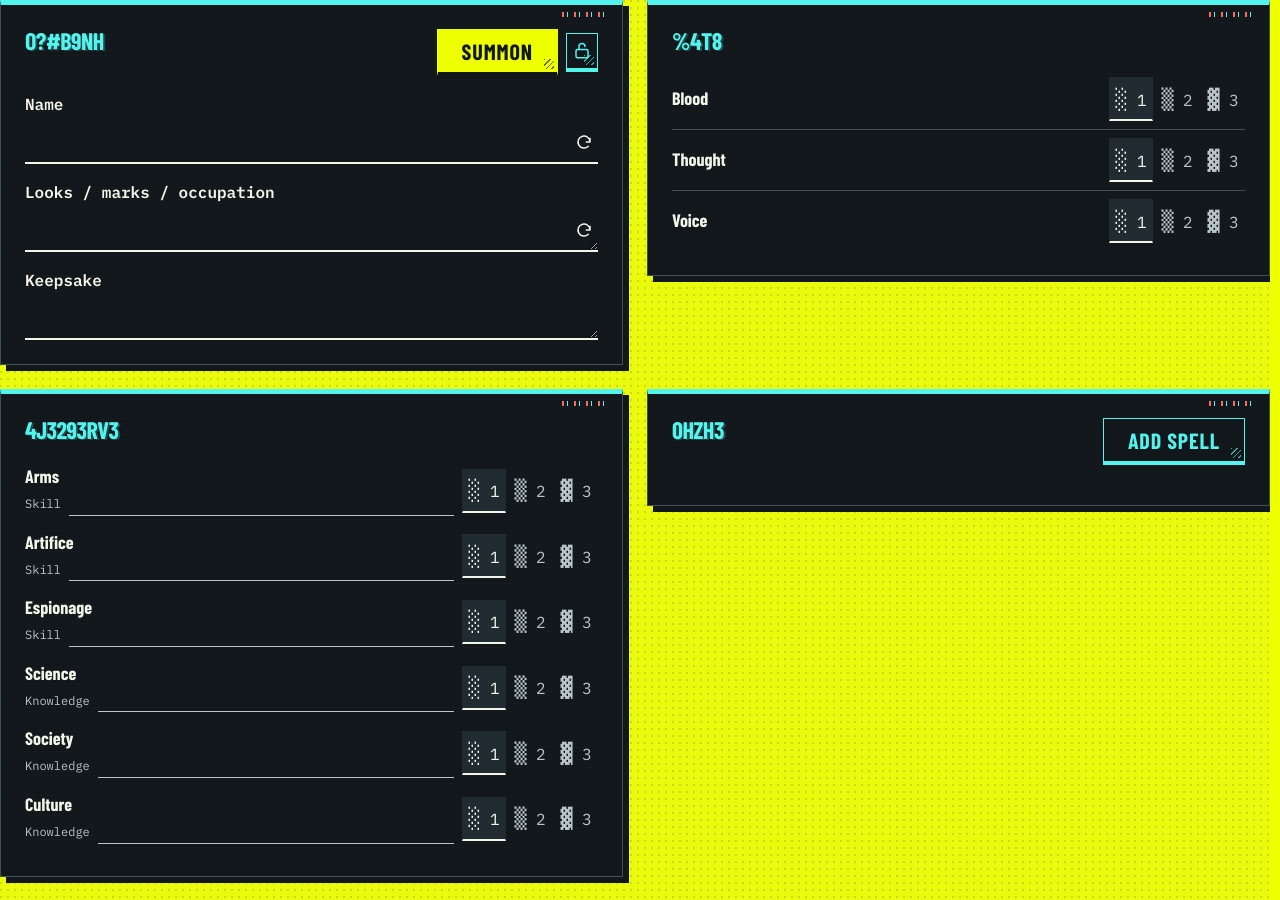
Scenario: Never Midnight student sheet › cancels summoning without changing edits and preserves the file when generation fails
The image size is (1280, 900).
Step 1. Click the button with id "student-summon" → (497, 52), box [437, 29, 558, 76]
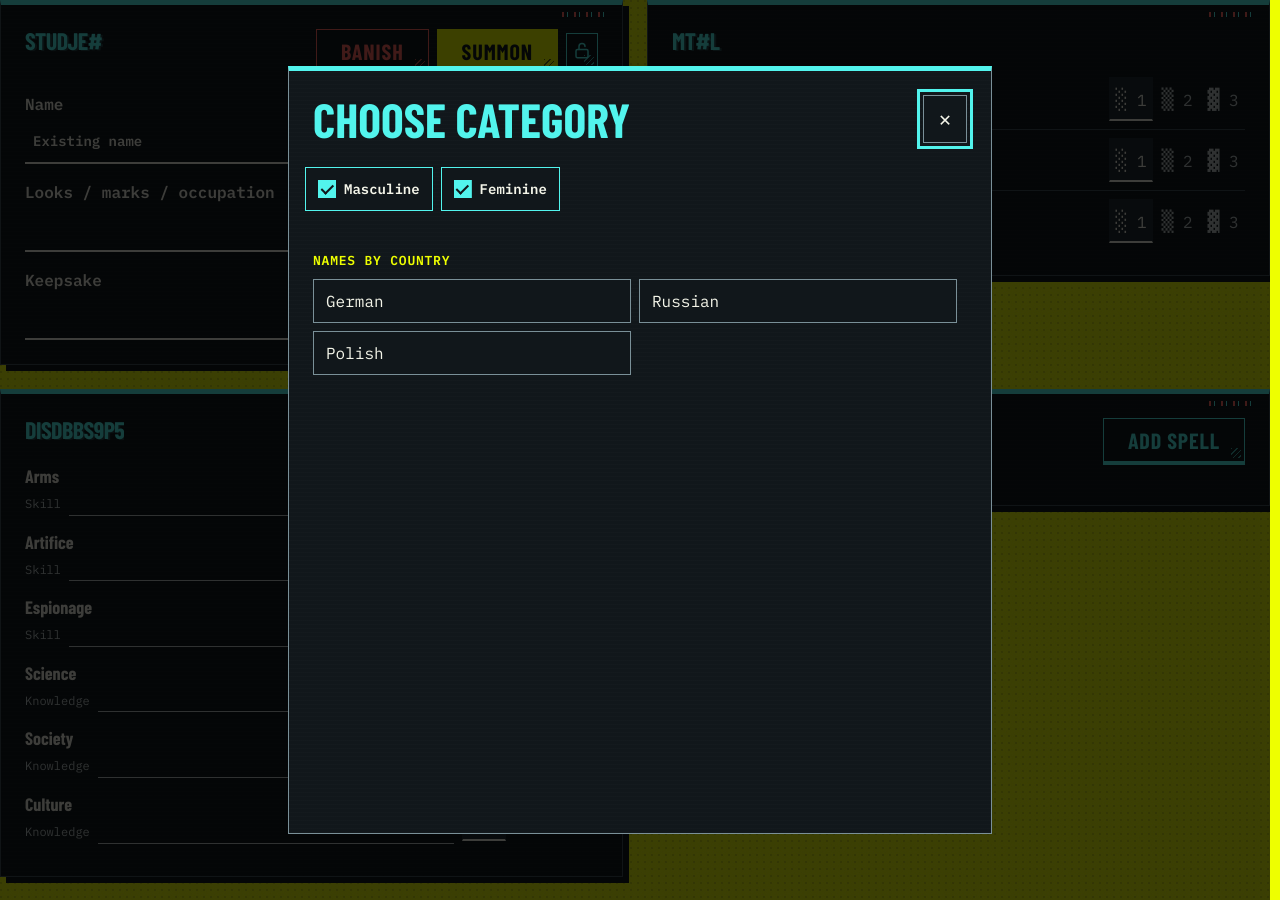
Step 2. Click the button named "Close category picker" → (945, 119), box [923, 95, 967, 143]
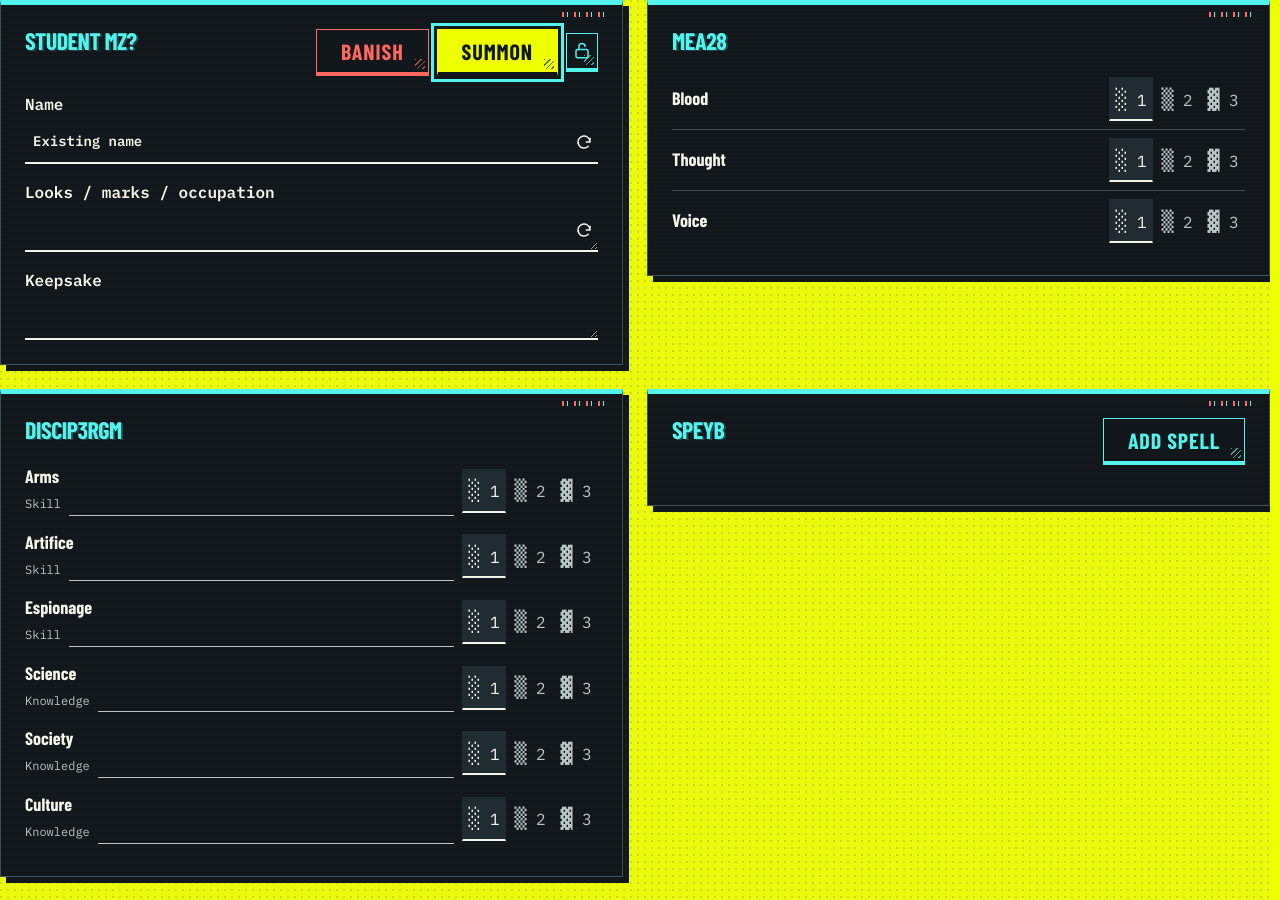
Step 3. Click the button named "Reroll name" → (584, 142), box [570, 120, 598, 164]
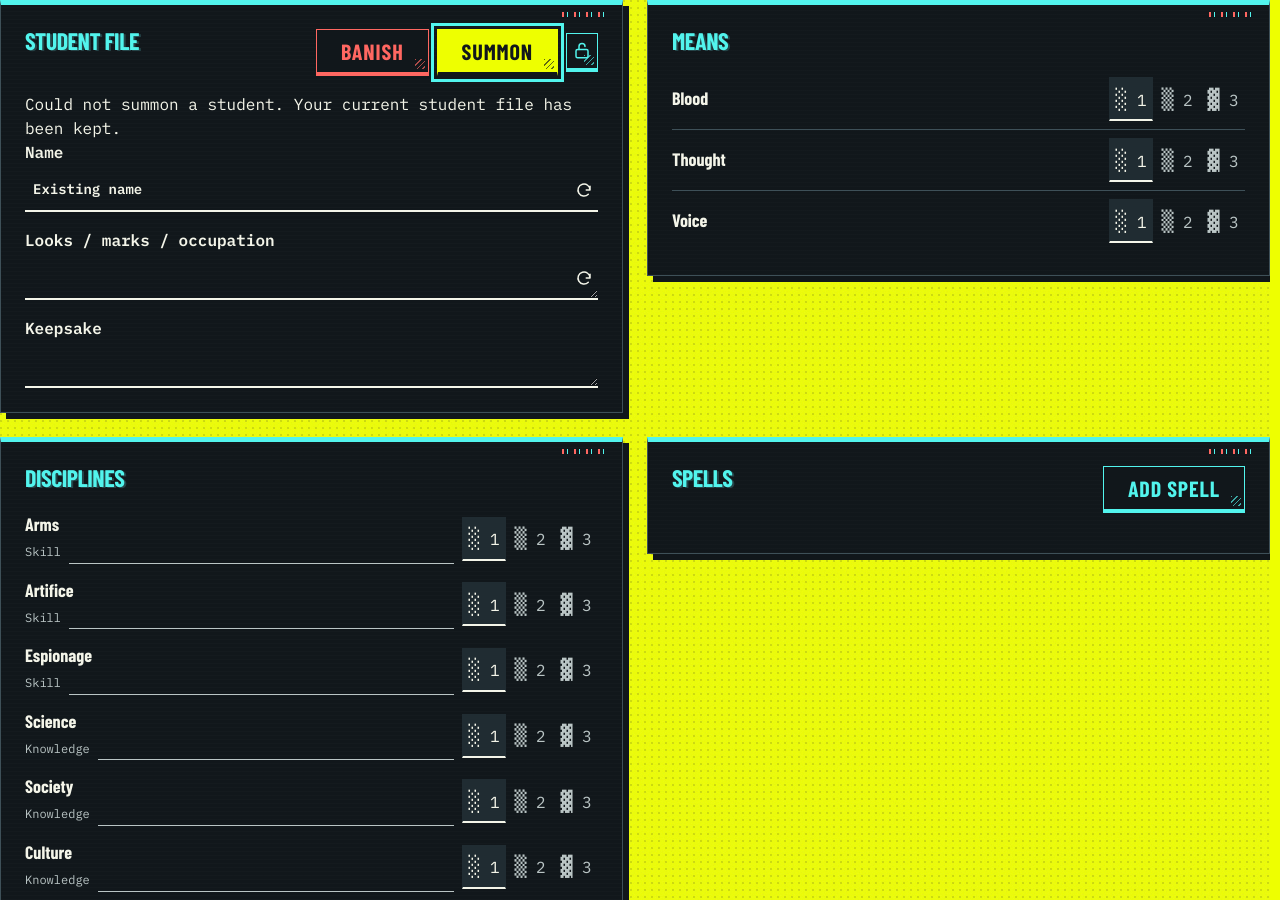
Expected: the message "Could not summon a student. Your current student file has been kept." is shown, [25, 92, 598, 140]
